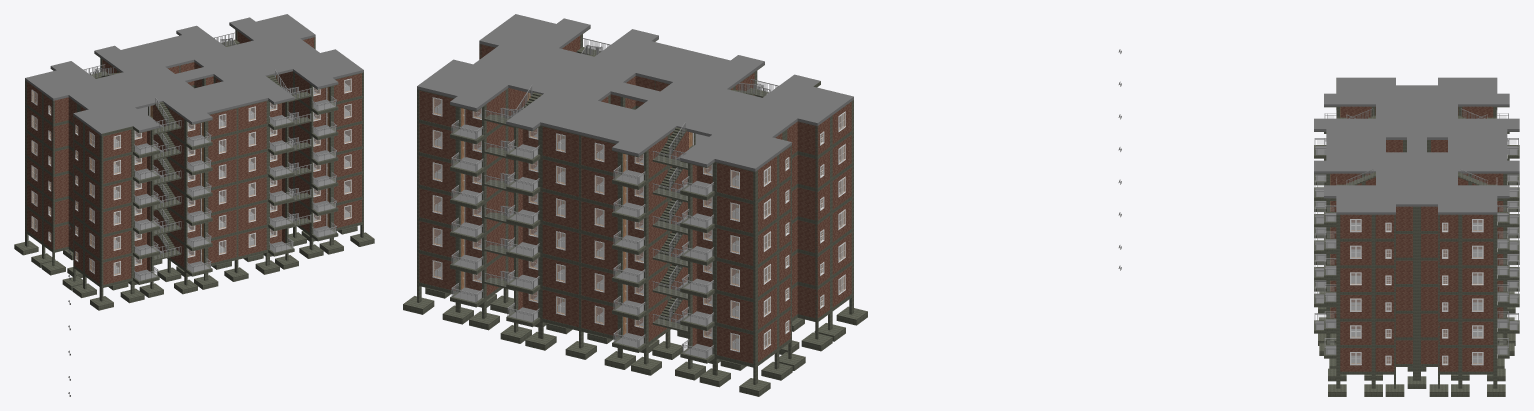
Rendered from imp.gltf.
The picture shows the model from 3 angles, left to right: view 1: azimuth 30°, elevation 25°; view 2: azimuth 150°, elevation 25°; view 3: azimuth 270°, elevation 25°; orthographic projection. The views are drawn at different scales.
Visible parts, largest first — view 1: Floor Generic - 12" [1284233], Basic Wall Generic - 9" Brick [1277468], Basic Wall Generic - 9" Brick [1276781], Basic Wall Generic - 9" Brick [1278155], Basic Wall Generic - 9" Brick [1278624], Basic Wall Generic - 9" Brick [1263678], Basic Wall Generic - 9" Brick [1275391], Basic Wall Generic - 9" Brick [1276094], Basic Wall Generic - 9" Brick [1276563], Basic Wall Generic - 9" Brick [1277937], Basic Wall Generic - 9" Brick [1265746], Basic Wall Generic - 9" Brick [1275860] (+19 smaller); view 2: Floor Generic - 12" [1284233], Basic Wall Generic - 9" Brick [1277179], Basic Wall Generic - 9" Brick [1259687], Basic Wall Generic - 9" Brick [1265668], Basic Wall Generic - 9" Brick [1276720], Basic Wall Generic - 9" Brick [1277407], Basic Wall Generic - 9" Brick [1278094], Basic Wall Generic - 9" Brick [1278553], Basic Wall Generic - 9" Brick [1275330], Basic Wall Generic - 9" Brick [1276033], Basic Wall Generic - 9" Brick [1276492], Basic Wall Generic - 9" Brick [1277866] (+13 smaller); view 3: Floor Generic - 12" [1284233], Basic Wall Generic - 9" Brick [1277781], Basic Wall Generic - 9" Brick [1277703], Basic Wall Generic - 9" Brick [1278390], Basic Wall Generic - 9" Brick [1278468], Basic Wall Generic - 9" Brick [1275704], Basic Wall Generic - 9" Brick [1277016], Basic Wall Generic - 9" Brick [1277094], Basic Wall Generic - 9" Brick [1275626], Basic Wall Generic - 9" Brick [1265405], Basic Wall Generic - 9" Brick [1276329], Basic Wall Generic - 9" Brick [1276407] (+29 smaller).
Part boxes in pixels (<box>): Floor Generic - 12" [1284233]: <box>25,14,363,135</box>; Basic Wall Generic - 9" Brick [1277468]: <box>238,126,266,155</box>; Basic Wall Generic - 9" Brick [1276781]: <box>238,152,266,180</box>; Basic Wall Generic - 9" Brick [1278155]: <box>238,101,266,130</box>; Basic Wall Generic - 9" Brick [1278624]: <box>103,129,131,158</box>; Basic Wall Generic - 9" Brick [1263678]: <box>238,227,266,256</box>; Basic Wall Generic - 9" Brick [1275391]: <box>238,202,266,231</box>; Basic Wall Generic - 9" Brick [1276094]: <box>238,177,266,205</box>; Basic Wall Generic - 9" Brick [1276563]: <box>103,205,131,234</box>; Basic Wall Generic - 9" Brick [1277937]: <box>103,155,131,183</box>; Basic Wall Generic - 9" Brick [1265746]: <box>103,256,131,284</box>; Basic Wall Generic - 9" Brick [1275860]: <box>103,231,131,259</box>; Floor Generic - 12" [1284233]: <box>417,14,853,171</box>; Basic Wall Generic - 9" Brick [1277179]: <box>717,228,753,265</box>; Basic Wall Generic - 9" Brick [1259687]: <box>542,289,578,327</box>; Basic Wall Generic - 9" Brick [1265668]: <box>717,326,753,363</box>; Basic Wall Generic - 9" Brick [1276720]: <box>542,192,578,229</box>; Basic Wall Generic - 9" Brick [1277407]: <box>542,159,578,196</box>; Basic Wall Generic - 9" Brick [1278094]: <box>542,126,578,163</box>; Basic Wall Generic - 9" Brick [1278553]: <box>717,163,753,200</box>; Basic Wall Generic - 9" Brick [1275330]: <box>542,257,578,294</box>; Basic Wall Generic - 9" Brick [1276033]: <box>542,224,578,261</box>; Basic Wall Generic - 9" Brick [1276492]: <box>717,261,753,298</box>; Basic Wall Generic - 9" Brick [1277866]: <box>717,196,753,233</box>; Floor Generic - 12" [1284233]: <box>1314,77,1519,214</box>; Basic Wall Generic - 9" Brick [1277781]: <box>1340,241,1371,265</box>; Basic Wall Generic - 9" Brick [1277703]: <box>1462,241,1493,265</box>; Basic Wall Generic - 9" Brick [1278390]: <box>1462,214,1493,238</box>; Basic Wall Generic - 9" Brick [1278468]: <box>1340,214,1371,238</box>; Basic Wall Generic - 9" Brick [1275704]: <box>1340,321,1371,344</box>; Basic Wall Generic - 9" Brick [1277016]: <box>1462,268,1493,291</box>; Basic Wall Generic - 9" Brick [1277094]: <box>1340,268,1371,291</box>; Basic Wall Generic - 9" Brick [1275626]: <box>1462,321,1493,344</box>; Basic Wall Generic - 9" Brick [1265405]: <box>1462,348,1493,371</box>; Basic Wall Generic - 9" Brick [1276329]: <box>1462,295,1493,318</box>; Basic Wall Generic - 9" Brick [1276407]: <box>1340,295,1371,318</box>.
Bounding box in the file's own units: 53.91 × 23.63 × 42.24.
